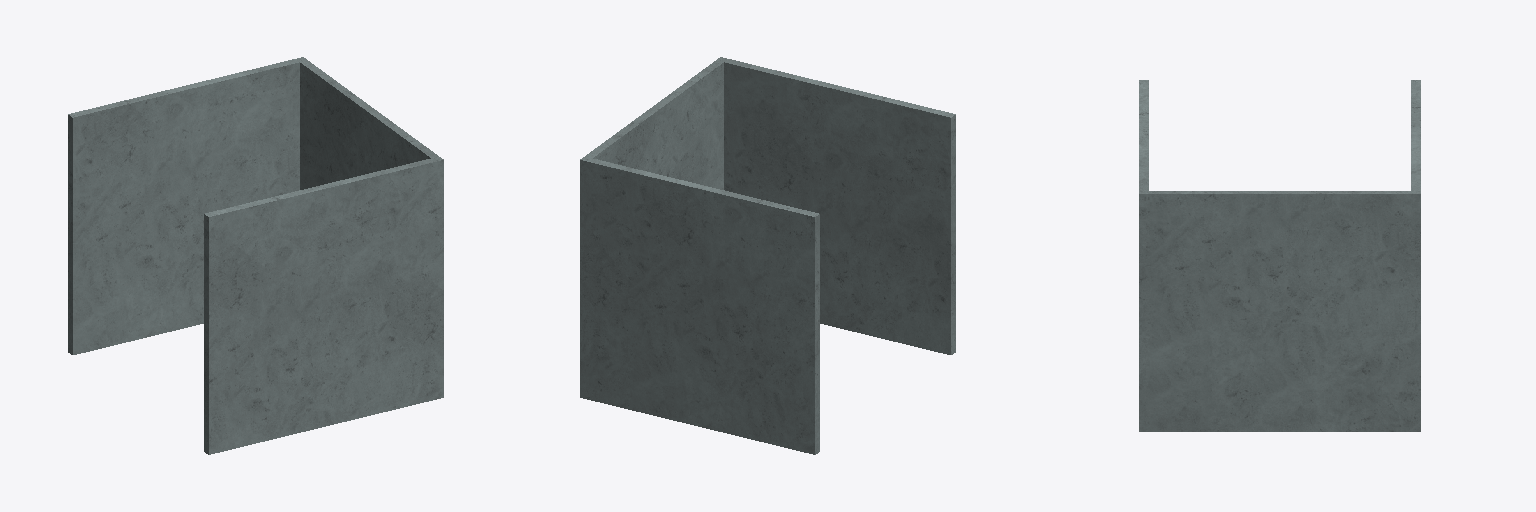
The picture shows the model from 3 angles: view 1: azimuth 30°, elevation 25°; view 2: azimuth 150°, elevation 25°; view 3: azimuth 270°, elevation 25°; orthographic projection.
Parts seen in each view (by area): view 1: cubicle; view 2: cubicle; view 3: cubicle.
Boxes of the visible parts, <box> form: cubicle: <box>68,57,443,454</box>; cubicle: <box>580,57,955,454</box>; cubicle: <box>1139,80,1420,431</box>.
Bounding box in the file's own units: 2.07 × 2 × 2.14.
1 materials, 1 textured.